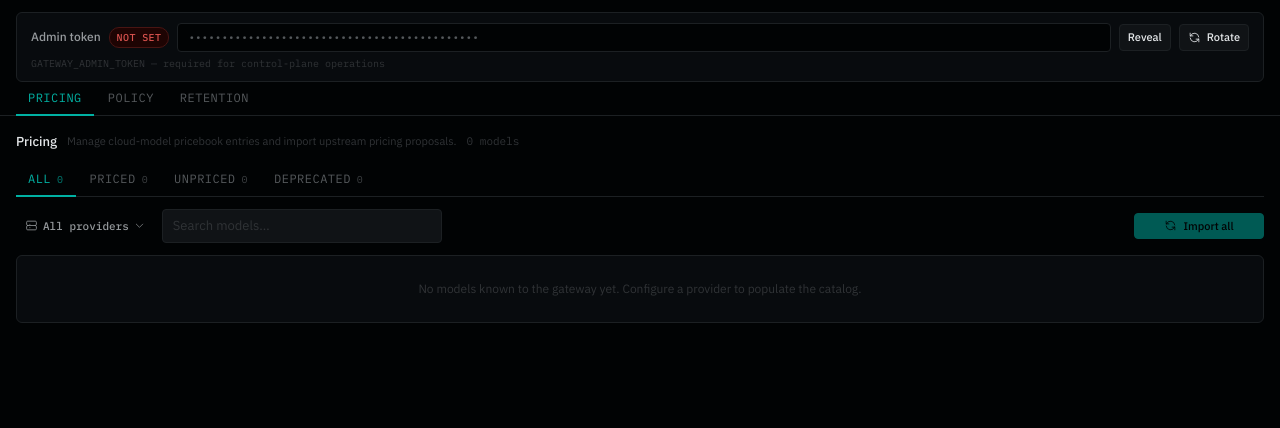
AdminView tabs › switches to retention tab on click
Click the button "Retention" at (214, 98), box [168,82,261,116]
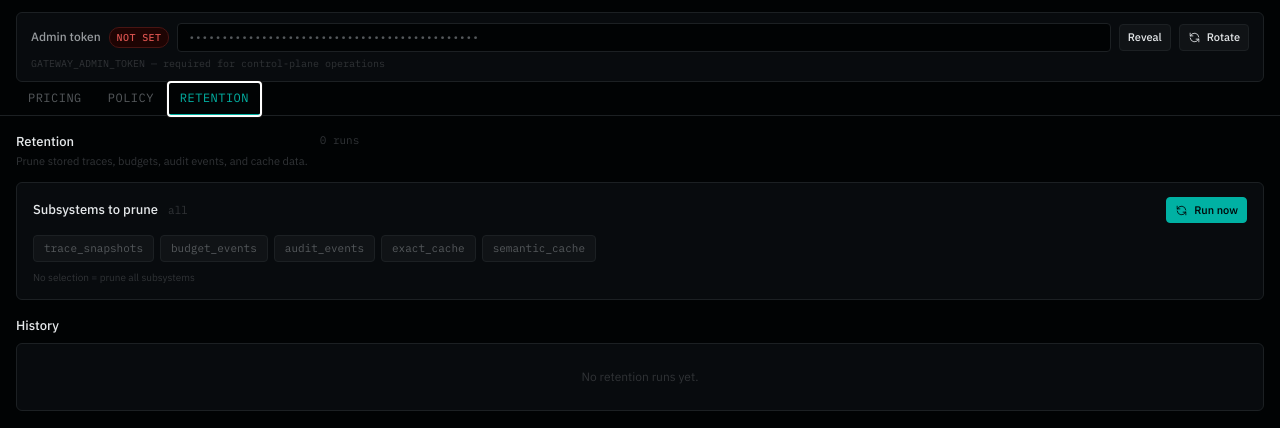
Check: the text "Subsystems to prune" is shown, box [33,200,158,220]
